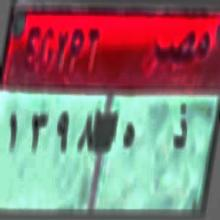1: (6, 108, 20, 170)
3: (28, 106, 49, 166)
8: (77, 112, 94, 165)
9: (54, 106, 70, 161)
haa: (118, 119, 139, 154)
zaal: (172, 102, 190, 154)
